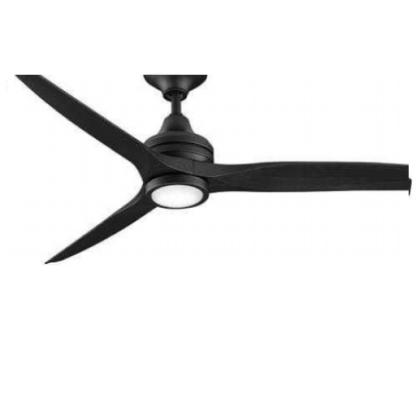ceiling-fan: (8, 75, 410, 263)
